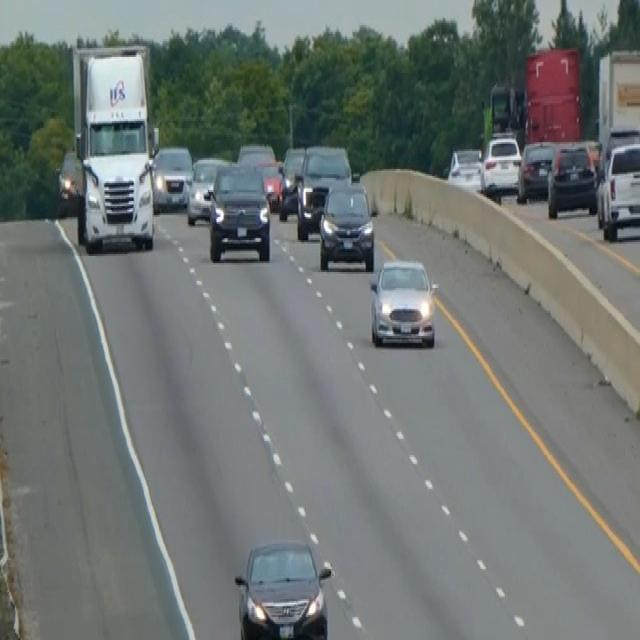car: (232, 537, 334, 638), (367, 254, 440, 350), (206, 160, 272, 263), (295, 142, 352, 240), (317, 178, 375, 272), (596, 139, 639, 240), (546, 140, 597, 218), (186, 154, 229, 226), (151, 142, 193, 210), (516, 137, 557, 203), (480, 134, 522, 196), (278, 144, 306, 219), (56, 148, 83, 215), (447, 144, 482, 192), (255, 158, 284, 210), (236, 140, 275, 169)
lorry: (69, 39, 158, 253)
